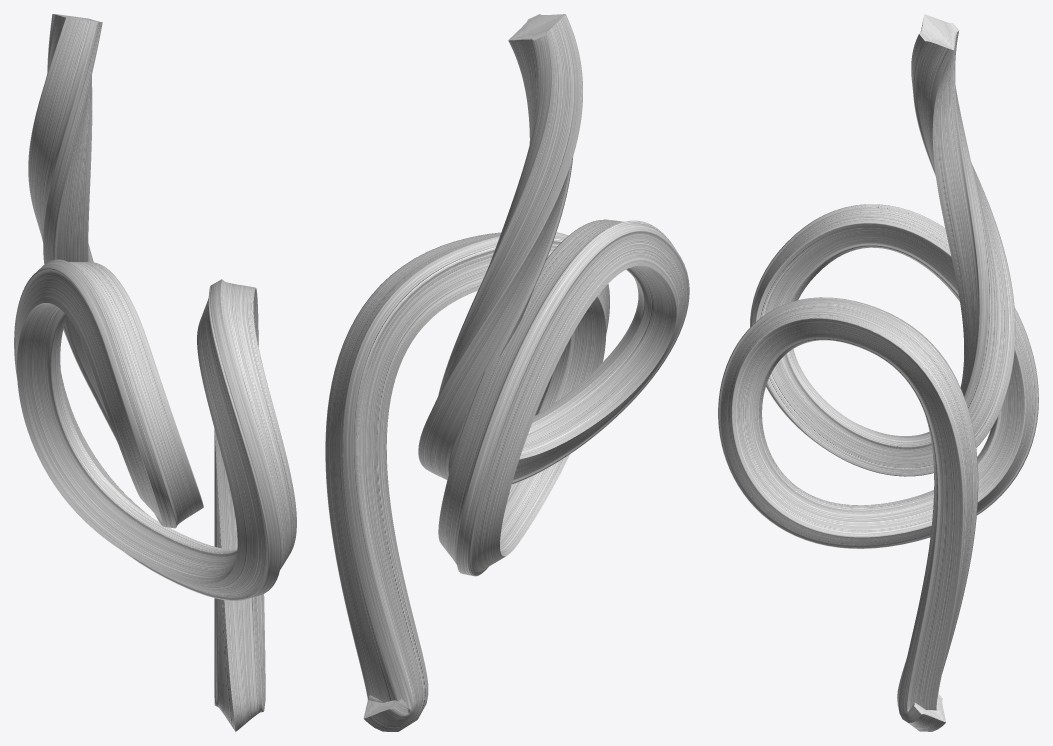
The picture shows the model from 3 angles, left to right: view 1: azimuth 30°, elevation 25°; view 2: azimuth 150°, elevation 25°; view 3: azimuth 270°, elevation 25°; orthographic projection. The views are drawn at different scales.
Parts seen in each view (by area): view 1: BezierCircle003; view 2: BezierCircle003; view 3: BezierCircle003.
Boxes of the visible parts, x1,y1,x2,y2 form: BezierCircle003: (14,14,296,731); BezierCircle003: (325,14,689,731); BezierCircle003: (718,14,1038,731).
Size of the model in its own units: 1.13 by 3.25 by 1.46.
Materials: 1 (1 with a texture image).
